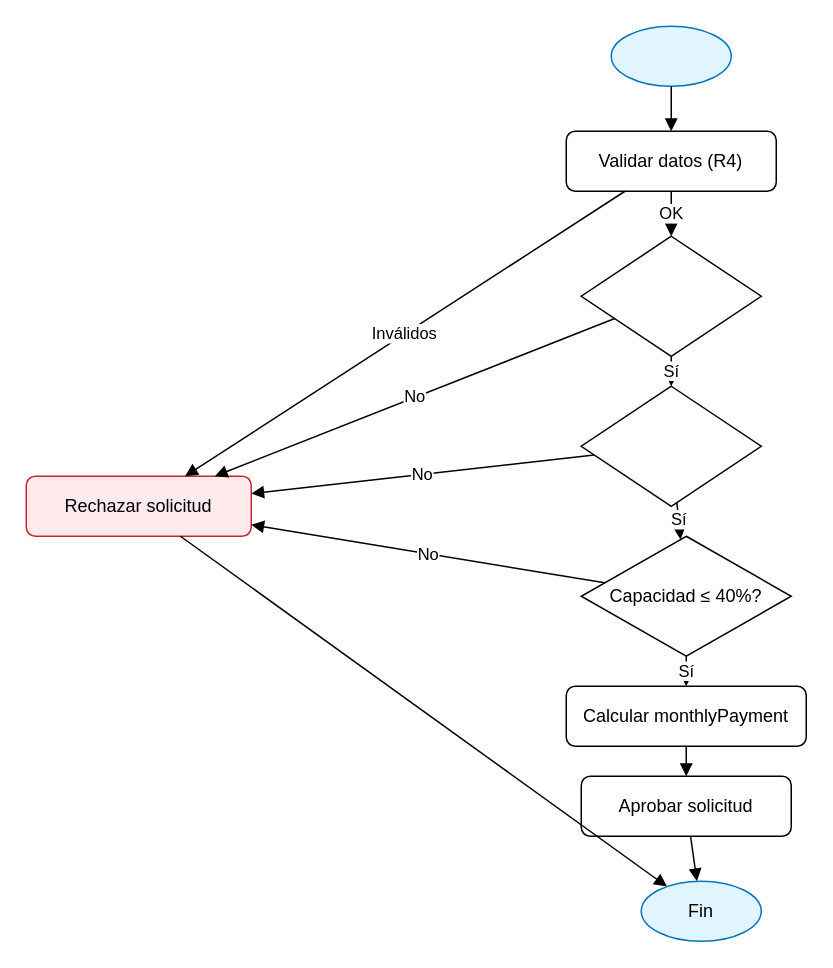
Image size: 833x968. Some labels were removed from this diagram. The shapes that lost their labels are listed below. From the top down, each one's box as (x1, y1, x2, y2) in pixels, then its label:
(610, 25, 731, 86): Inicio
(580, 235, 761, 356): Antigüedad < 3m?
(580, 385, 761, 506): Plazo 1..36?
